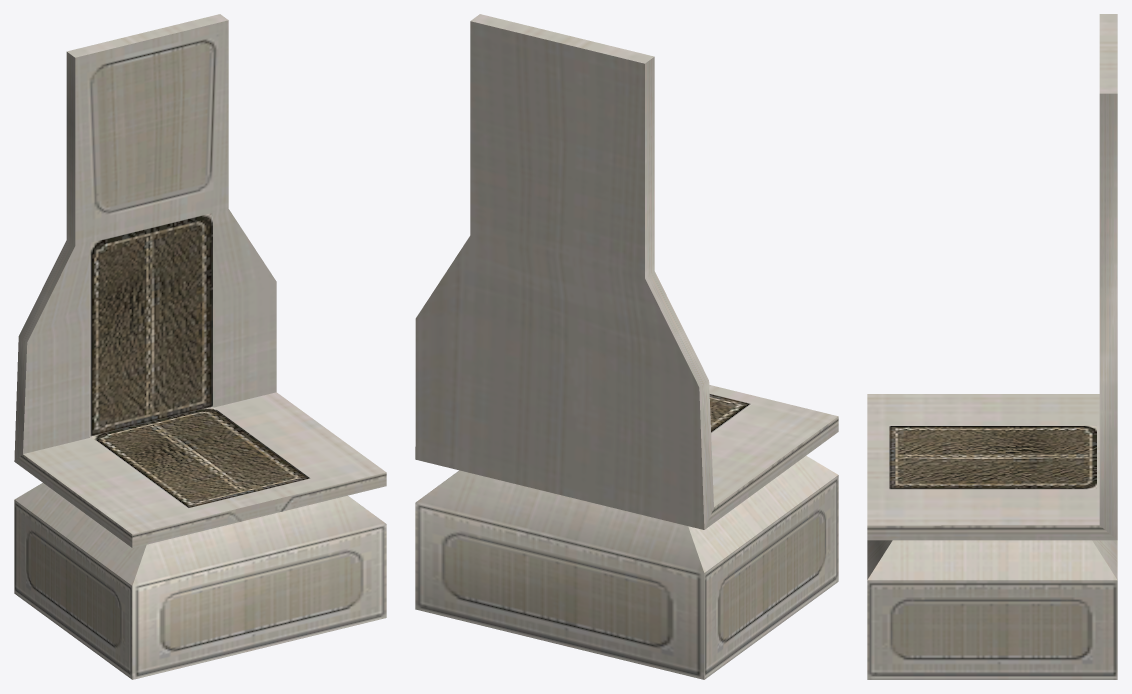
Rendered from frn_all_eleg_chair_s01_l1.fbx.
The picture shows the model from 3 angles, left to right: view 1: azimuth 30°, elevation 25°; view 2: azimuth 150°, elevation 25°; view 3: azimuth 270°, elevation 25°; orthographic projection. The views are drawn at different scales.
Visible parts, largest first — view 1: mesh_node; view 2: mesh_node; view 3: mesh_node.
Boxes of the visible parts, x1,y1,x2,y2 form: mesh_node: (14,14,386,679); mesh_node: (415,14,838,679); mesh_node: (867,14,1117,679).
Bounding box in the file's own units: 0.6884 × 1.37 × 0.554.
